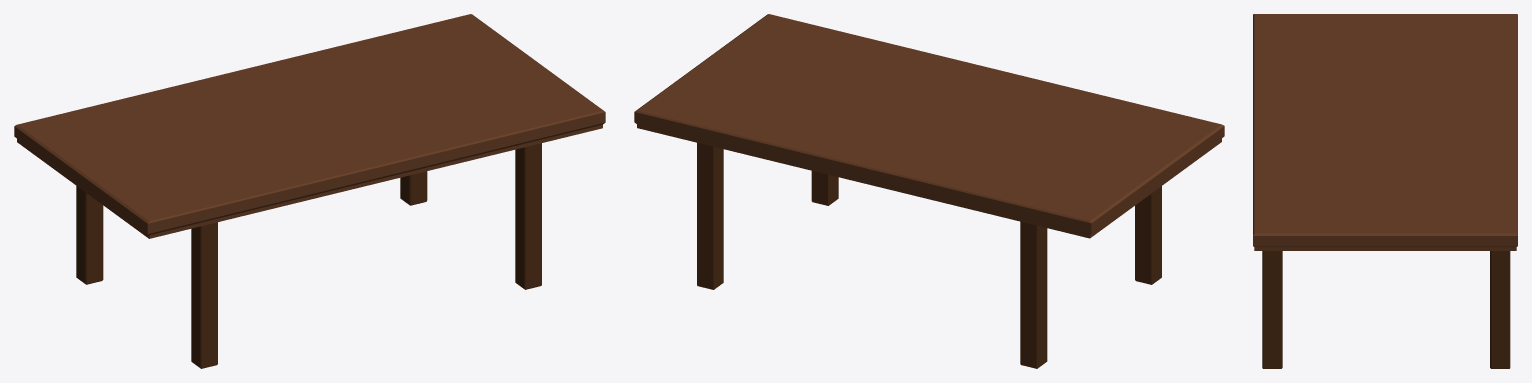
The model's file is table.fbx.
3 renders of one model, left to right at view 1: azimuth 30°, elevation 25°; view 2: azimuth 150°, elevation 25°; view 3: azimuth 270°, elevation 25°, orthographic.
Visible parts, largest first — view 1: Cube; view 2: Cube; view 3: Cube.
Part boxes in pixels (x1,y1,x2,y2): Cube: [14, 14, 605, 368]; Cube: [634, 14, 1224, 368]; Cube: [1253, 14, 1517, 368].
Size of the model in its own units: 1101 by 378 by 556.
